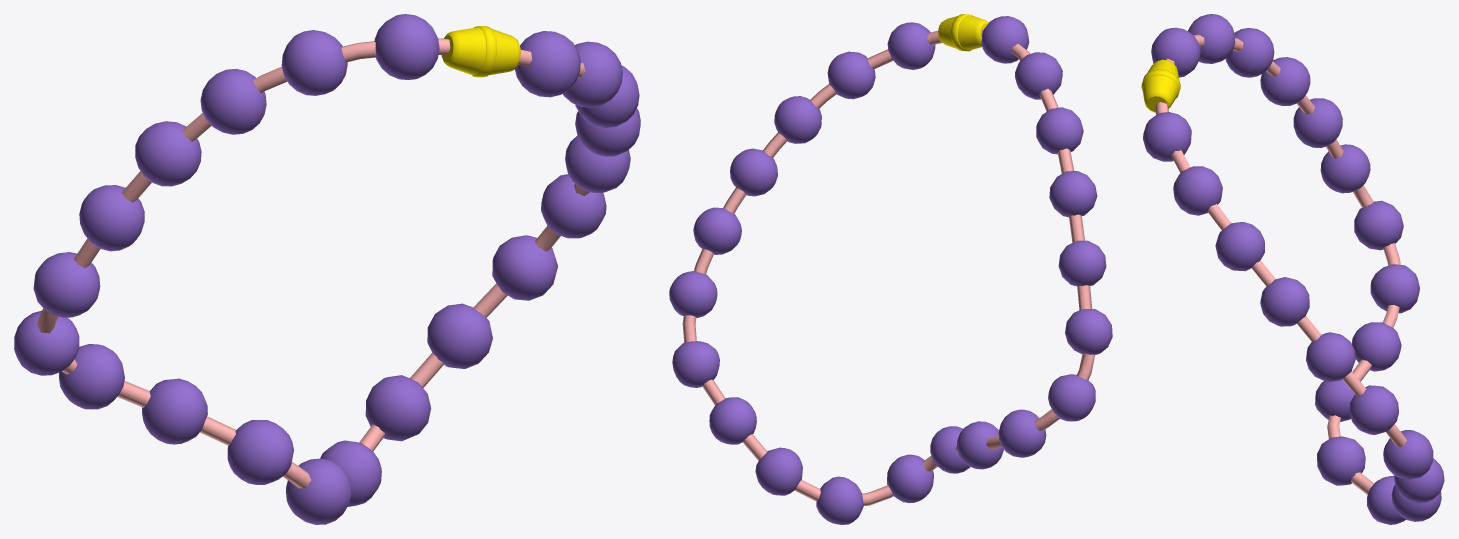
Rendered from Necklace.fbx.
3 renders of one model, left to right at view 1: azimuth 30°, elevation 25°; view 2: azimuth 150°, elevation 25°; view 3: azimuth 270°, elevation 25°, orthographic. The views are drawn at different scales.
Parts seen in each view (by area): view 1: Necklace; view 2: Necklace; view 3: Necklace.
Part boxes in pixels (bbox=[...]): Necklace: bbox=[14, 14, 640, 524]; Necklace: bbox=[669, 14, 1112, 524]; Necklace: bbox=[1141, 14, 1444, 524].
Size of the model in its own units: 9.91 by 9.95 by 5.91.
